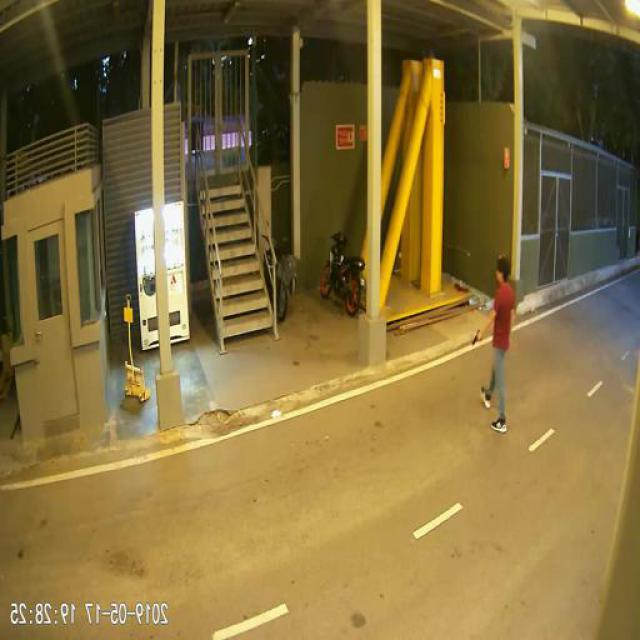Gun: (474, 325, 485, 346)
